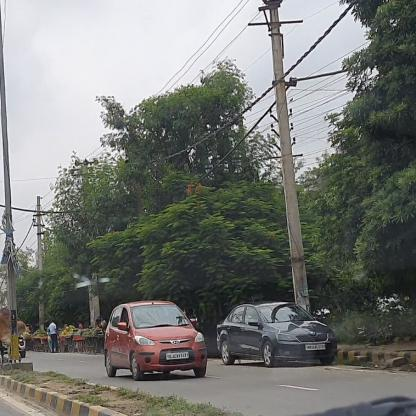car: (102, 300, 209, 382), (217, 301, 338, 369)
